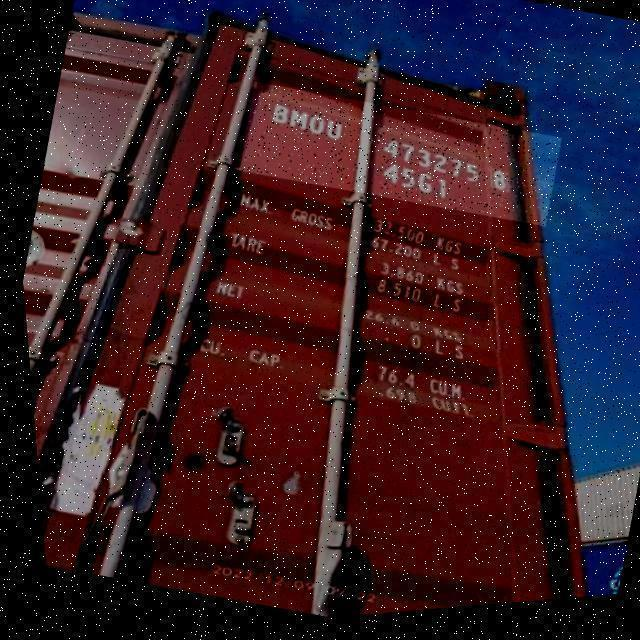ISO: (382, 162, 451, 205)
container_number: (268, 100, 512, 188)
